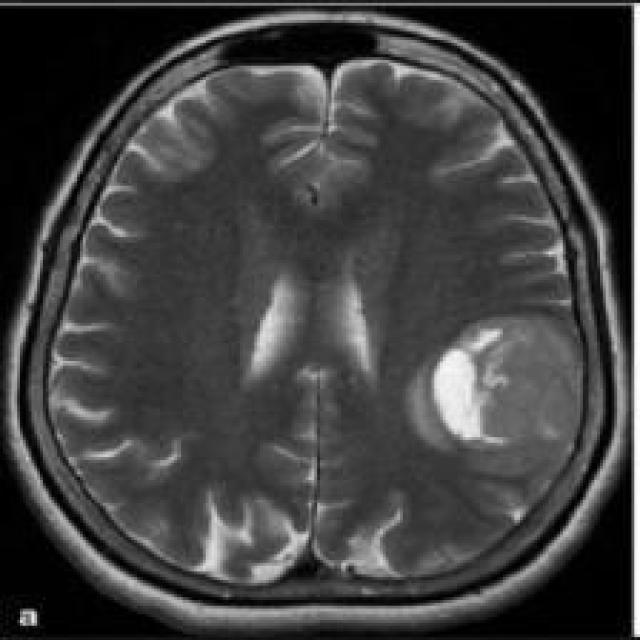Tumor: (440, 311, 591, 463)
